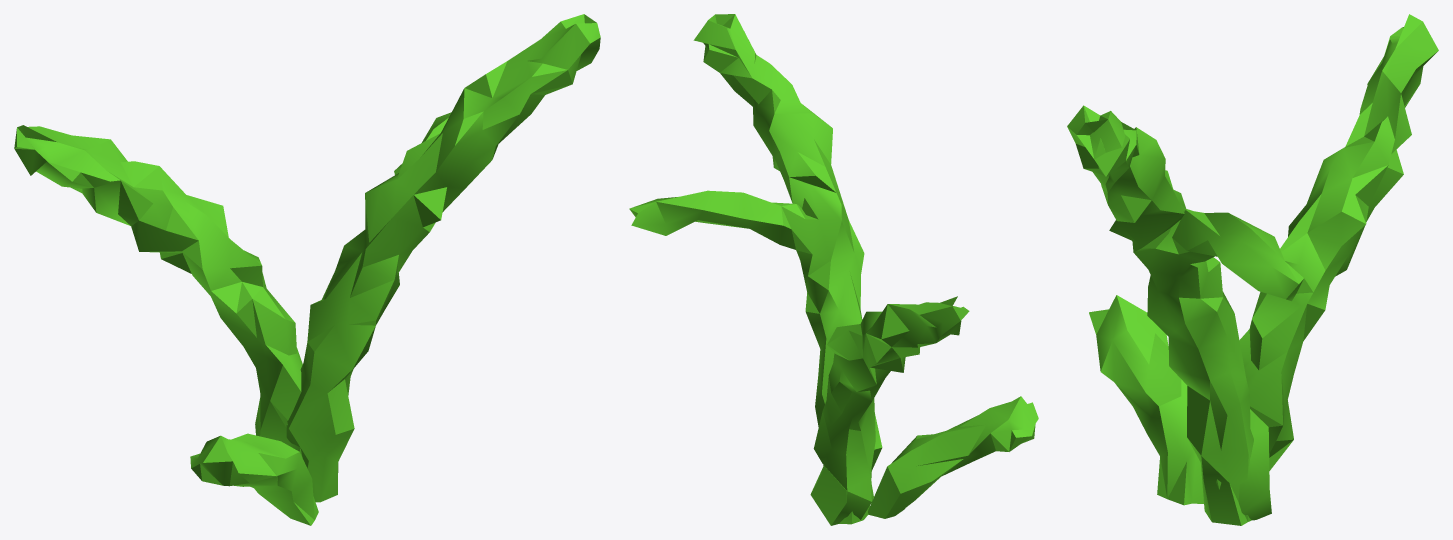
File: swamp_shrub_02.fbx
The picture shows the model from 3 angles, left to right: view 1: azimuth 30°, elevation 25°; view 2: azimuth 150°, elevation 25°; view 3: azimuth 270°, elevation 25°; orthographic projection. The views are drawn at different scales.
Parts seen in each view (by area): view 1: Branch_covered; view 2: Branch_covered; view 3: Branch_covered.
Boxes of the visible parts, bbox=[...] form: Branch_covered: bbox=[14, 14, 600, 525]; Branch_covered: bbox=[629, 14, 1038, 525]; Branch_covered: bbox=[1067, 14, 1438, 525].
Size of the model in its own units: 1.23 by 1.25 by 0.8228.
